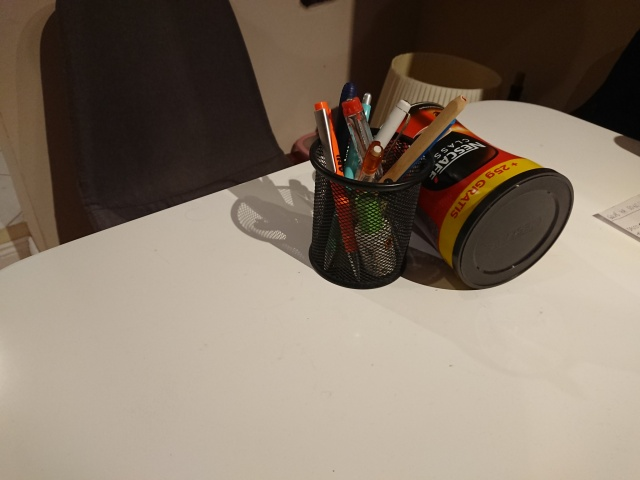Nescafe Classic 225g: (365, 99, 578, 293)
